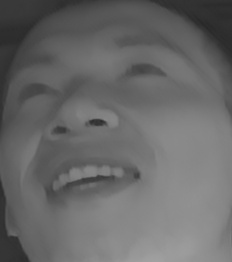eye: (14, 77, 65, 105), (122, 57, 170, 83)
mouth: (40, 147, 141, 214)
